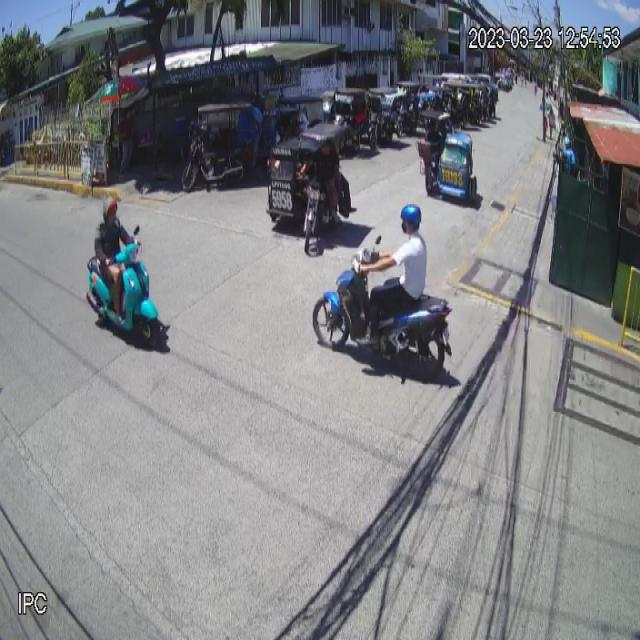Motorcycle: (313, 234, 453, 376), (86, 225, 160, 348)
Tricycle: (265, 125, 353, 251), (417, 110, 478, 202)
